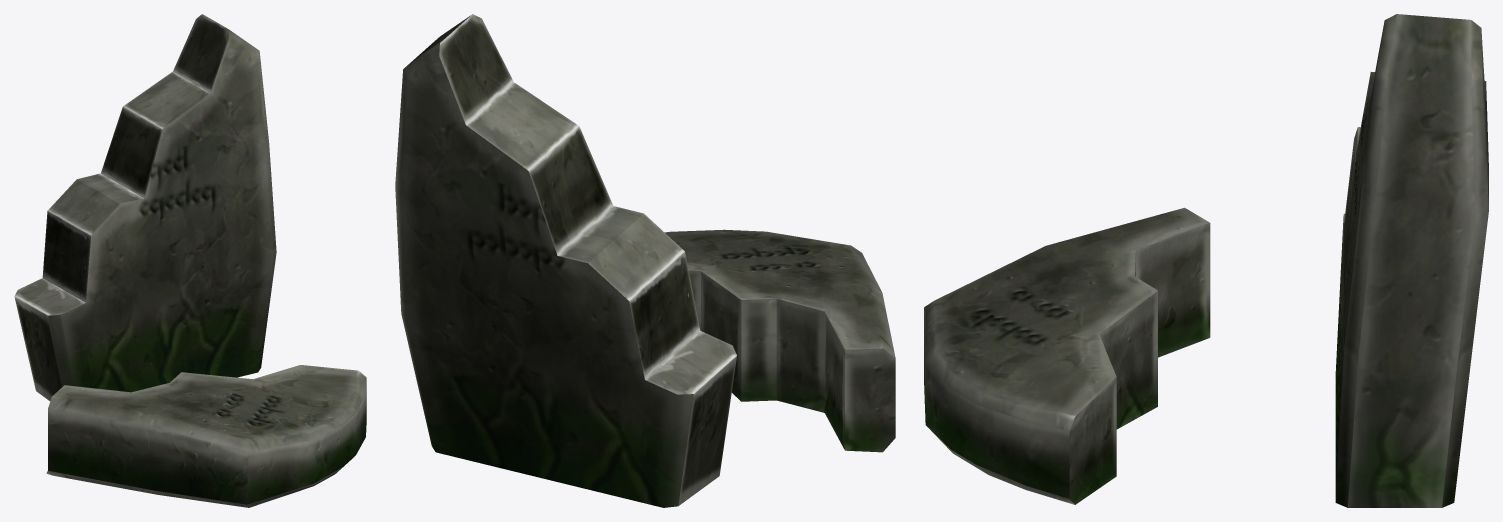
The model's file is TombStone04.FBX.
3 renders of one model, left to right at view 1: azimuth 30°, elevation 25°; view 2: azimuth 150°, elevation 25°; view 3: azimuth 270°, elevation 25°, orthographic. The views are drawn at different scales.
Parts seen in each view (by area): view 1: TombStone04; view 2: TombStone04; view 3: TombStone04.
Boxes of the visible parts, left/top/right/bottom form: TombStone04: left=14, top=14, right=366, bottom=507; TombStone04: left=395, top=14, right=895, bottom=507; TombStone04: left=924, top=14, right=1488, bottom=507.
Bounding box in the file's own units: 18.21 × 19.92 × 21.
